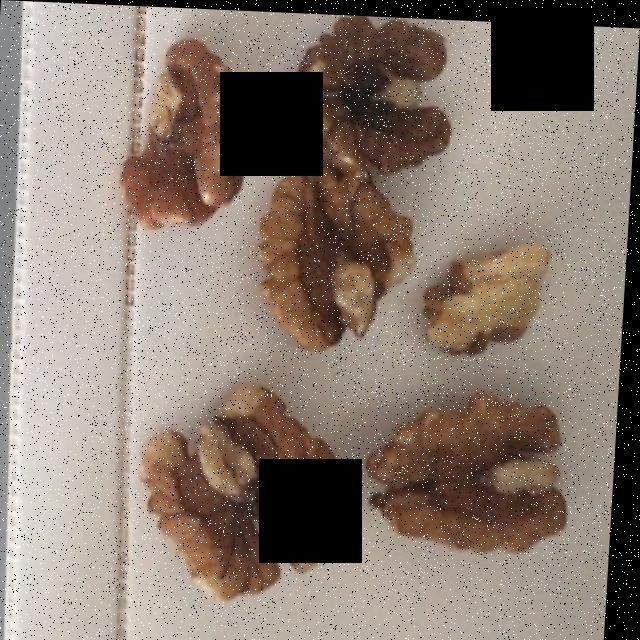walnut: (104, 30, 573, 590)
